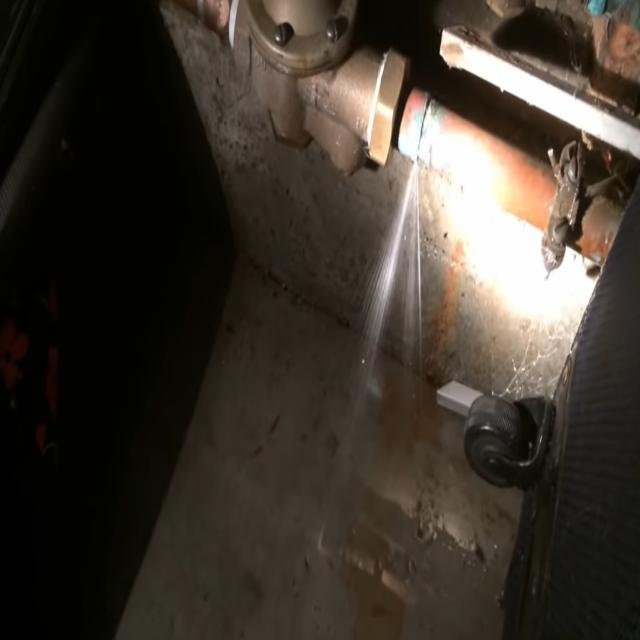leak: (362, 160, 422, 376)
